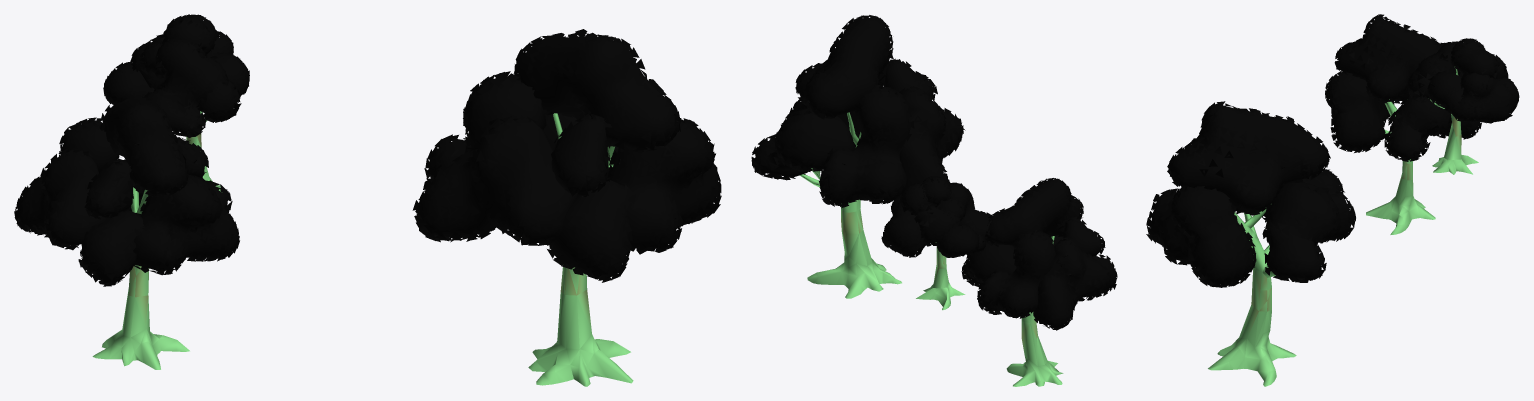
File: SM_ENV_LKNVLD_TreeSet_M_Lod1.gltf
The picture shows the model from 3 angles, left to right: view 1: azimuth 30°, elevation 25°; view 2: azimuth 150°, elevation 25°; view 3: azimuth 270°, elevation 25°; orthographic projection. The views are drawn at different scales.
Parts seen in each view (by area): view 1: SM_ENV_LKNVLD_TreeSet_M_Lod1; view 2: SM_ENV_LKNVLD_TreeSet_M_Lod1; view 3: SM_ENV_LKNVLD_TreeSet_M_Lod1.
Part boxes in pixels (left/top/right/bottom): SM_ENV_LKNVLD_TreeSet_M_Lod1: left=14, top=14, right=721, bottom=386; SM_ENV_LKNVLD_TreeSet_M_Lod1: left=751, top=15, right=1117, bottom=386; SM_ENV_LKNVLD_TreeSet_M_Lod1: left=1146, top=14, right=1519, bottom=386.
Bounding box in the file's own units: 30.59 × 18.39 × 23.68.
